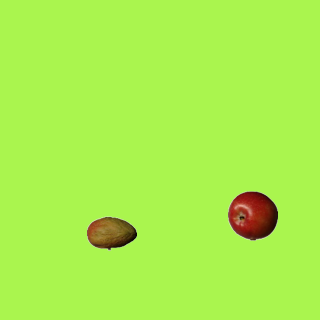Apple Braeburn: (227, 190, 277, 240)
Papaya: (86, 208, 136, 258)
